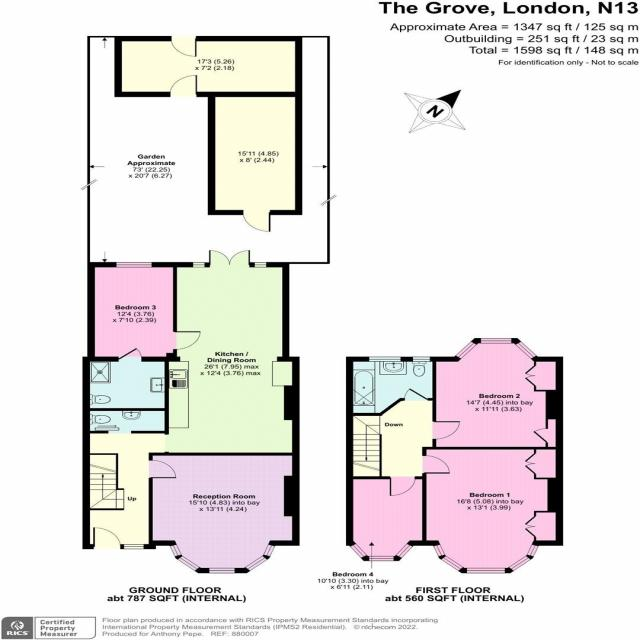DOOR: (241, 210, 272, 233), (168, 74, 198, 97), (173, 330, 202, 350), (149, 459, 178, 479), (421, 455, 450, 475), (170, 36, 197, 57), (389, 476, 416, 497), (433, 420, 460, 440), (117, 348, 143, 362)
DOUBLE DOOR: (207, 247, 253, 267)
ROOM: (81, 248, 300, 549), (149, 452, 300, 574), (421, 446, 564, 574), (432, 337, 564, 450), (87, 262, 178, 362)
WINDOW: (453, 340, 479, 361), (242, 554, 269, 573), (514, 340, 537, 360), (507, 554, 532, 572), (440, 555, 464, 572), (176, 556, 201, 572), (394, 542, 414, 560), (349, 542, 368, 559), (464, 567, 509, 574), (477, 337, 512, 344), (113, 262, 153, 268), (168, 543, 183, 558), (433, 543, 446, 559), (368, 356, 402, 362), (262, 543, 276, 557), (527, 543, 540, 558), (207, 568, 236, 574), (368, 555, 396, 561), (122, 544, 145, 550), (411, 357, 430, 362), (190, 262, 205, 268), (253, 262, 267, 268)
